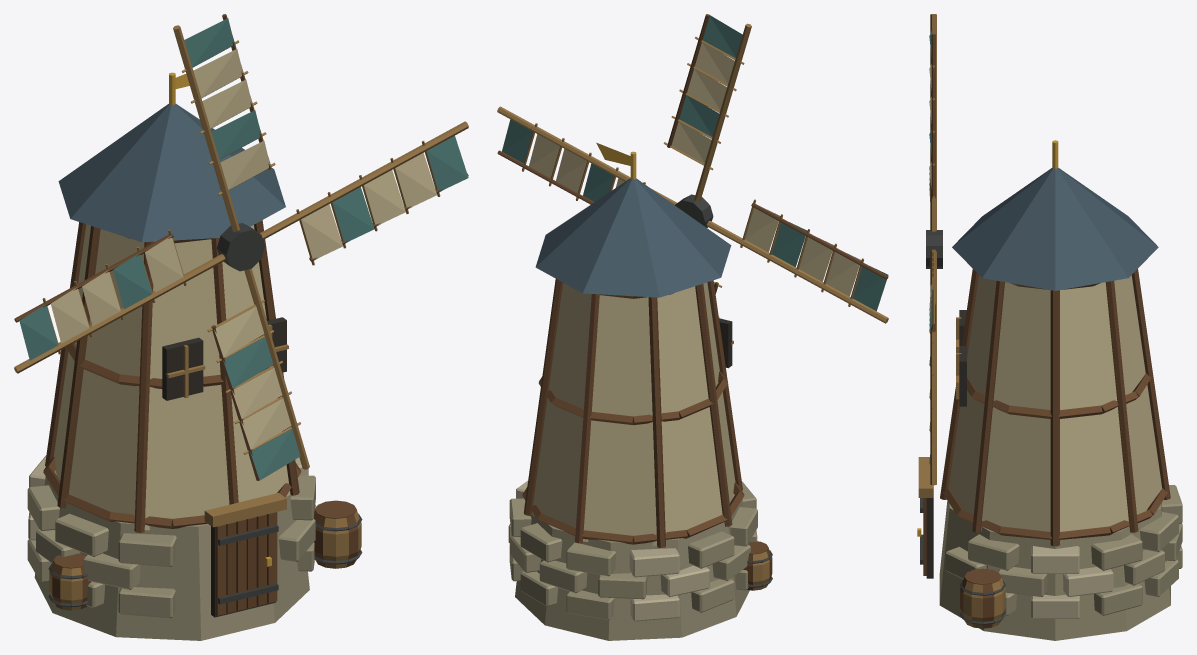
Rendered from meadow_windmill.glb.
3 renders of one model, left to right at view 1: azimuth 30°, elevation 25°; view 2: azimuth 150°, elevation 25°; view 3: azimuth 270°, elevation 25°, orthographic. The views are drawn at different scales.
Parts seen in each view (by area): view 1: meadow_windmill_body, meadow_windmill_sails; view 2: meadow_windmill_body, meadow_windmill_sails; view 3: meadow_windmill_body, meadow_windmill_sails.
Part boxes in pixels (<box>): meadow_windmill_body: <box>27,72,362,640</box>; meadow_windmill_sails: <box>14,14,468,480</box>; meadow_windmill_body: <box>508,142,772,640</box>; meadow_windmill_sails: <box>497,14,888,323</box>; meadow_windmill_body: <box>917,140,1182,640</box>; meadow_windmill_sails: <box>926,14,942,485</box>.
Size of the model in its own units: 8.88 by 11.69 by 5.13.
